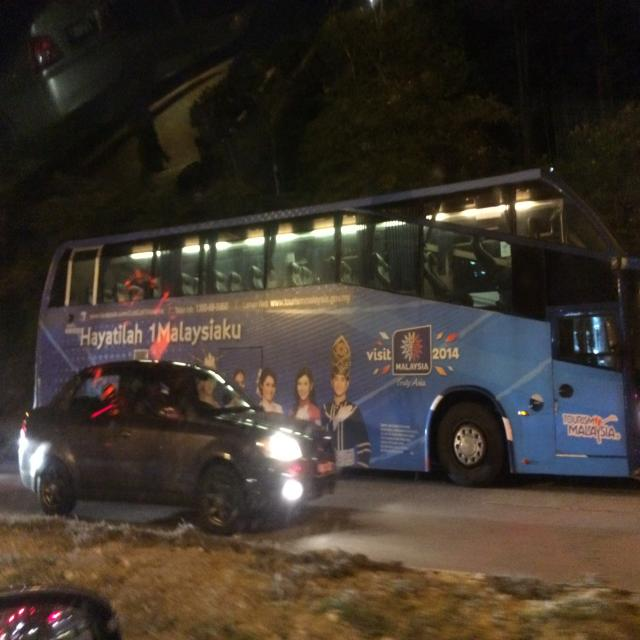Bus: (32, 196, 640, 470)
car: (25, 349, 338, 576), (14, 0, 123, 135)
